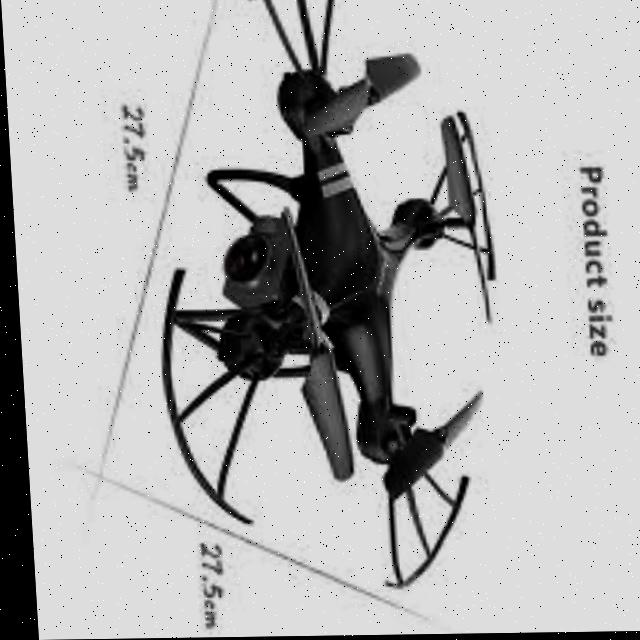drone: (129, 0, 522, 606)
